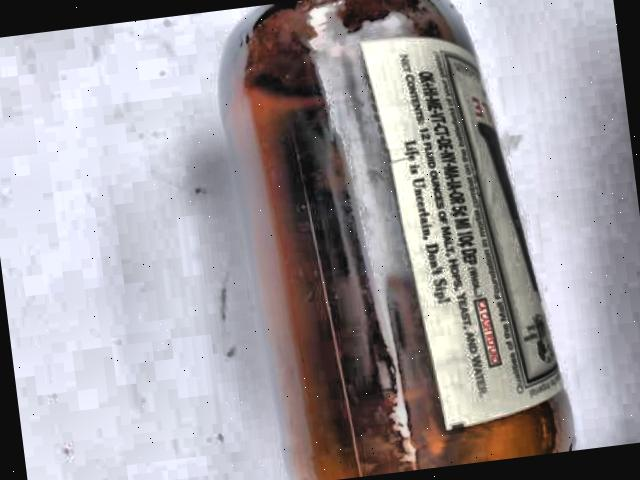Bottles: (177, 0, 606, 480)
